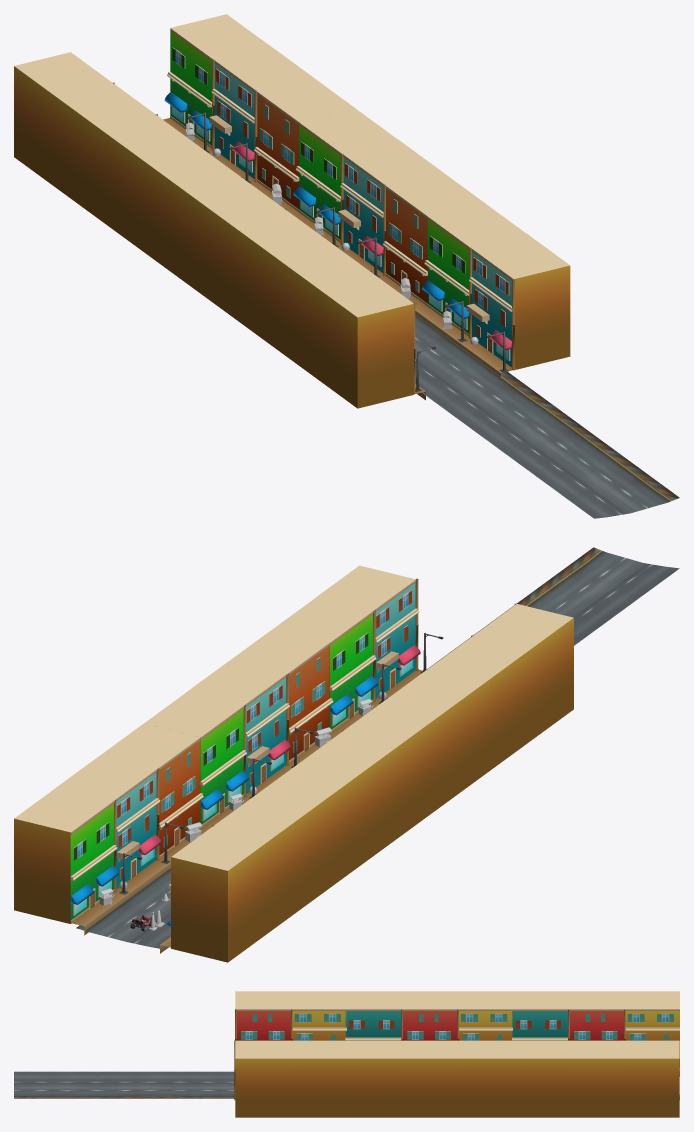
Rendered from Testing .fbx.
The picture shows the model from 3 angles, top to bottom: view 1: azimuth 30°, elevation 25°; view 2: azimuth 150°, elevation 25°; view 3: azimuth 270°, elevation 25°; orthographic projection. The views are drawn at different scales.
Visible parts, largest first — view 1: Cube.112, as_road_module.003, Cube.136, as_road_module.002, Cube.007, Cube.105, Cube.054, Cube.061, Cube.013, Cube.011, Cube.067, Cube.019 (+7 smaller); view 2: Cube.007, Cube.039, as_road_module.003, Cube.011, Cube.054, Cube.061, Cube.013, Cube.112, Cube.067, Cube.105, Cube.019, Cube.077 (+8 smaller); view 3: as_road_module.003, Cube.085, Cube.034, Cube.136, Cube.039, Cube.141, Cube.077, Cube.090, Cube.019, Cube.061, Cube.013, Cube.112 (+11 smaller).
Part boxes in pixels (x1=…): Cube.112: x1=314, y1=272, x2=413, y2=408; as_road_module.003: x1=466, y1=403, x2=679, y2=518; Cube.136: x1=471, y1=234, x2=570, y2=369; as_road_module.002: x1=415, y1=314, x2=550, y2=424; Cube.007: x1=14, y1=52, x2=113, y2=188; Cube.105: x1=271, y1=241, x2=370, y2=376; Cube.054: x1=142, y1=147, x2=242, y2=282; Cube.061: x1=185, y1=178, x2=284, y2=313; Cube.013: x1=57, y1=84, x2=155, y2=219; Cube.011: x1=100, y1=115, x2=199, y2=251; Cube.067: x1=229, y1=209, x2=328, y2=344; Cube.019: x1=256, y1=77, x2=355, y2=209; Cube.007: x1=171, y1=825, x2=271, y2=962; Cube.039: x1=14, y1=787, x2=113, y2=923; as_road_module.003: x1=464, y1=547, x2=679, y2=645; Cube.011: x1=258, y1=761, x2=358, y2=898; Cube.054: x1=302, y1=730, x2=401, y2=866; Cube.061: x1=345, y1=698, x2=444, y2=835; Cube.013: x1=215, y1=793, x2=314, y2=930; Cube.112: x1=474, y1=604, x2=573, y2=740; Cube.067: x1=388, y1=667, x2=487, y2=803; Cube.105: x1=431, y1=635, x2=530, y2=772; Cube.019: x1=100, y1=723, x2=200, y2=855; Cube.077: x1=230, y1=628, x2=329, y2=760; as_road_module.003: x1=14, y1=1071, x2=180, y2=1098; Cube.085: x1=401, y1=1040, x2=457, y2=1117; Cube.034: x1=568, y1=1040, x2=624, y2=1117; Cube.136: x1=235, y1=1040, x2=291, y2=1117; Cube.039: x1=623, y1=1040, x2=679, y2=1117; Cube.141: x1=290, y1=1040, x2=346, y2=1117; Cube.077: x1=346, y1=1040, x2=401, y2=1117; Cube.090: x1=457, y1=1040, x2=512, y2=1117; Cube.019: x1=513, y1=1040, x2=568, y2=1117; Cube.061: x1=401, y1=991, x2=457, y2=1040; Cube.013: x1=568, y1=991, x2=623, y2=1040; Cube.112: x1=235, y1=991, x2=290, y2=1040.
Bounding box in the file's own units: 2554 × 1135 × 10694.
